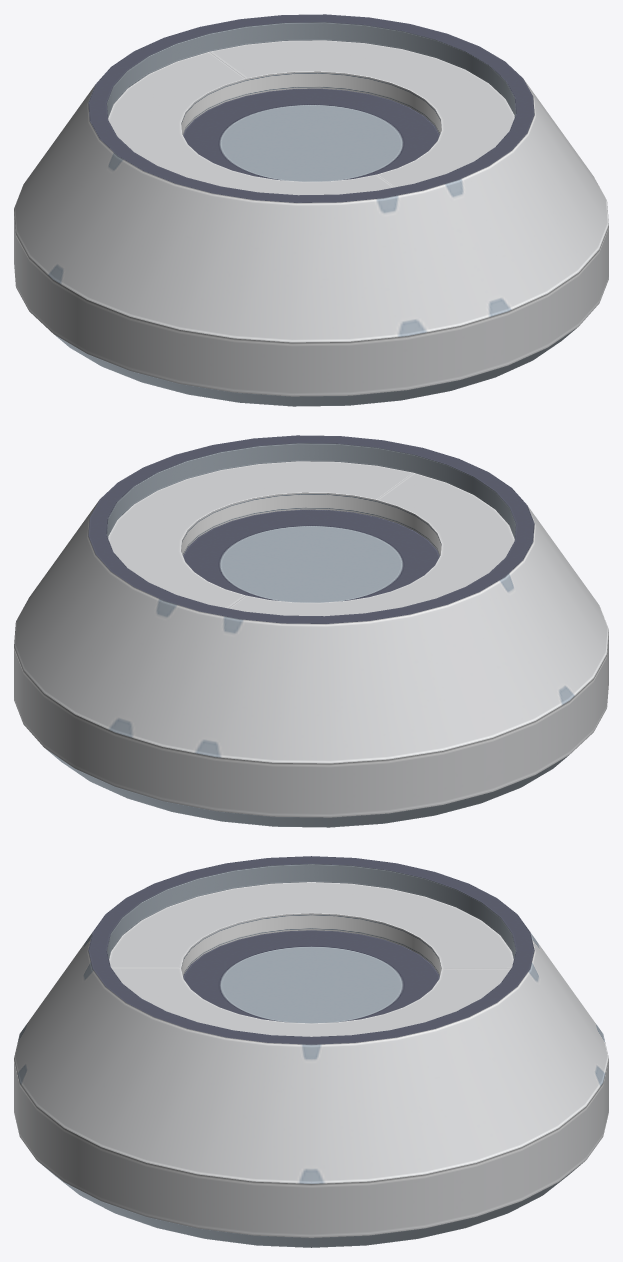
The picture shows the model from 3 angles, top to bottom: view 1: azimuth 30°, elevation 25°; view 2: azimuth 150°, elevation 25°; view 3: azimuth 270°, elevation 25°; orthographic projection.
Visible parts, largest first — view 1: Tube_Base_02; view 2: Tube_Base_02; view 3: Tube_Base_02.
Boxes of the visible parts, bbox=[...] form: Tube_Base_02: bbox=[14, 14, 608, 406]; Tube_Base_02: bbox=[14, 435, 608, 827]; Tube_Base_02: bbox=[14, 856, 608, 1247].
Size of the model in its own units: 1.5 by 0.5 by 1.5.
